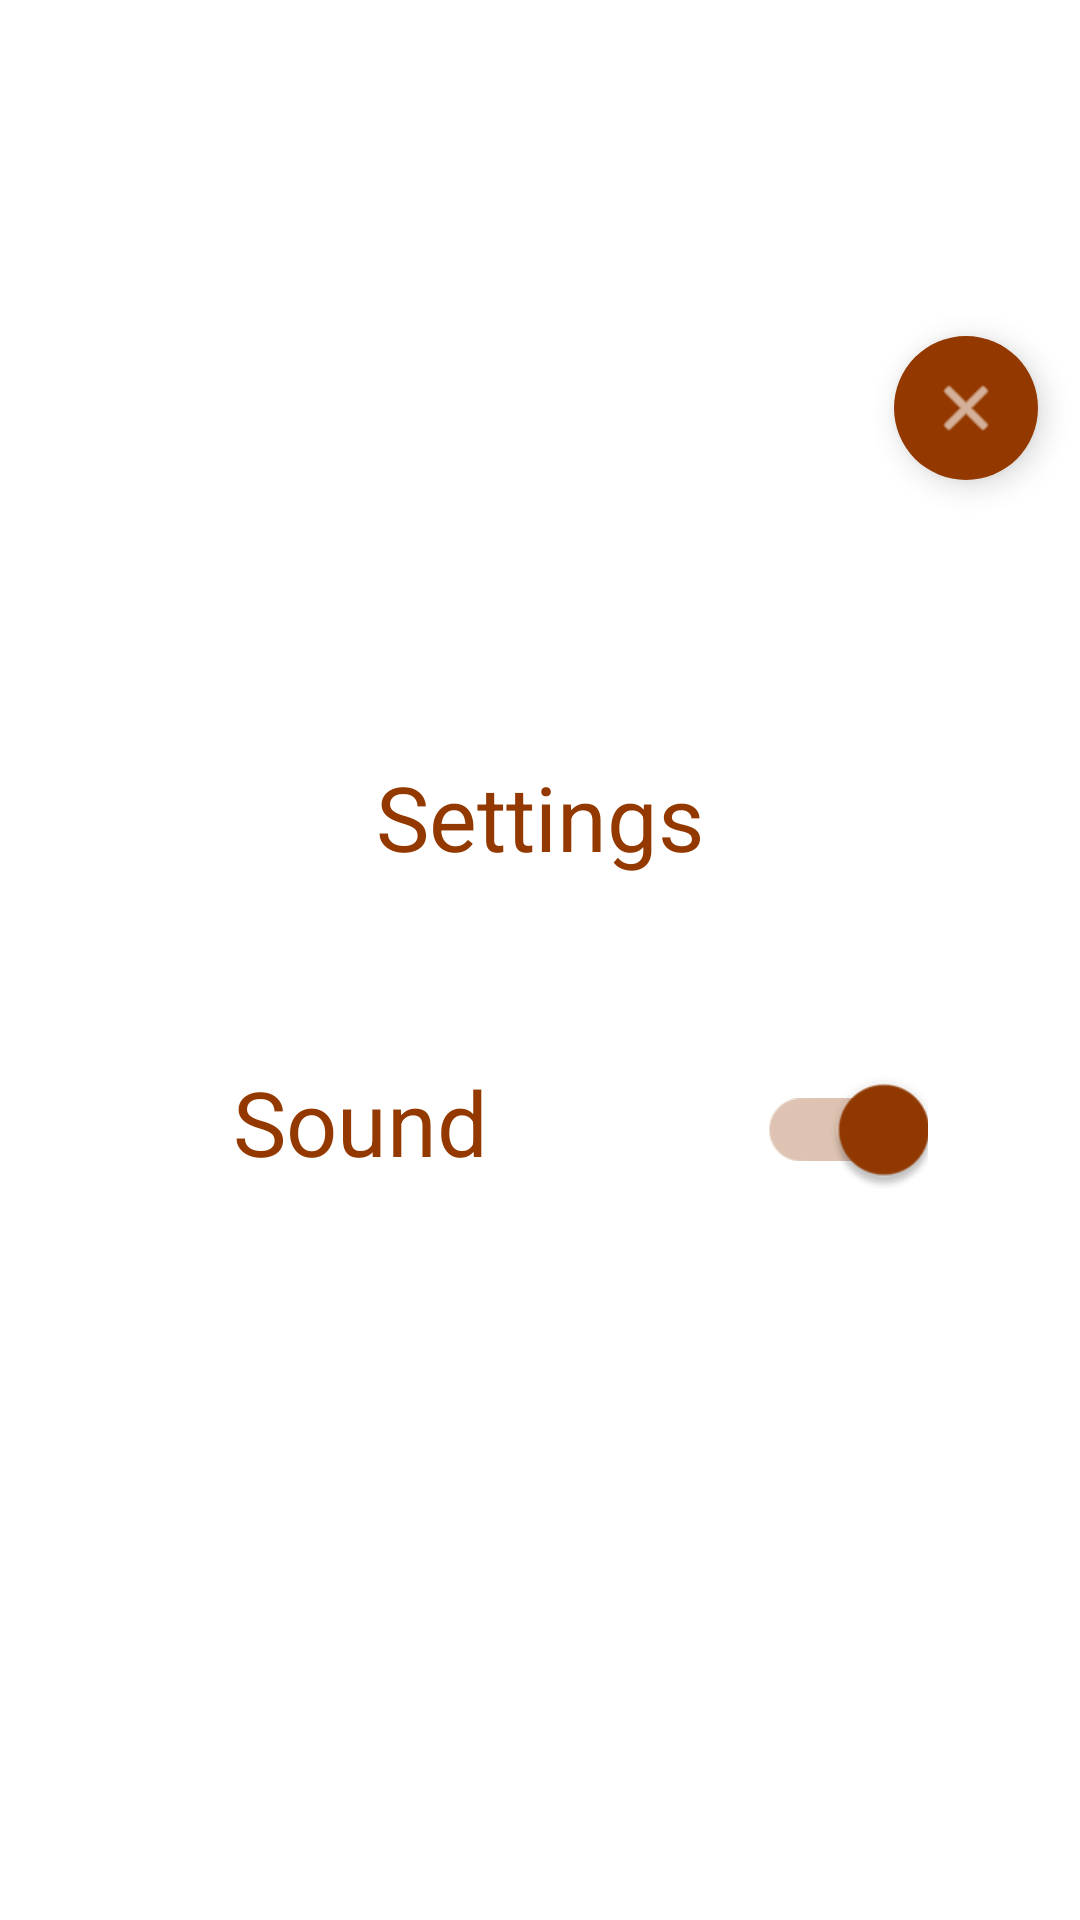

Icons on this 1080 x 1920 Android screen, each with its box as (x1, y1, x2, y2):
Closes the settings view being displayed: (894, 336, 1038, 480)
